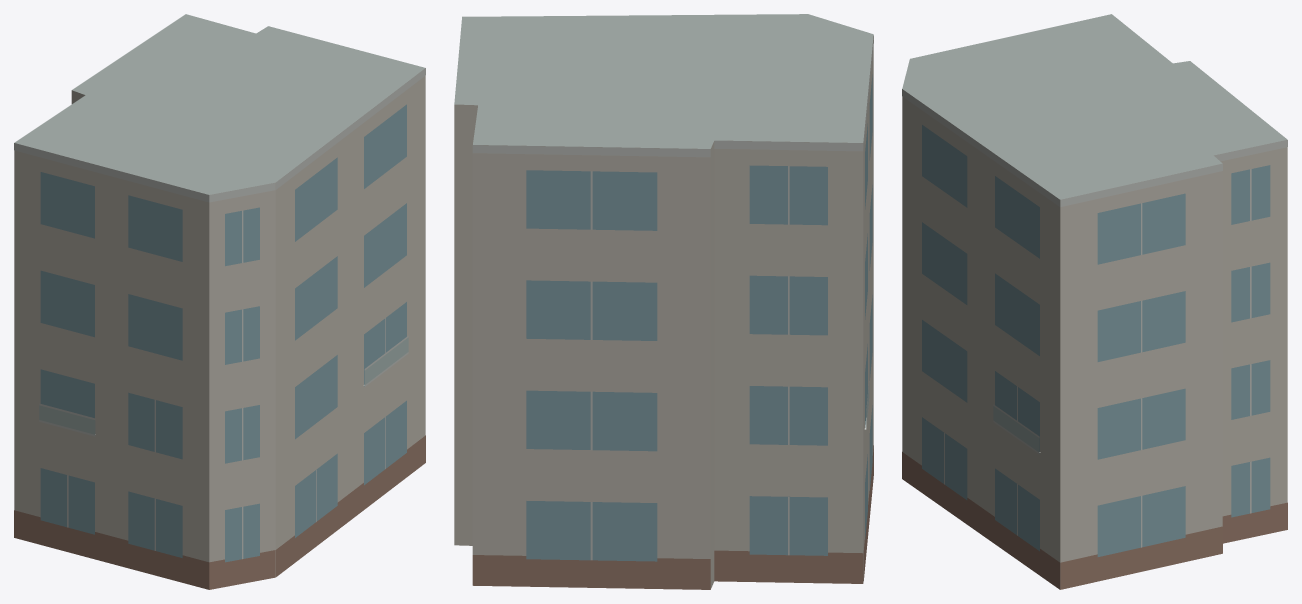
File: survey-upis-32931707.glb
3 views of the same model, side by side, from view 1: azimuth 30°, elevation 25°; view 2: azimuth 150°, elevation 25°; view 3: azimuth 270°, elevation 25° (orthographic). The views are drawn at different scales.
Parts seen in each view (by area): view 1: survey-upis-32931707.tmp; view 2: survey-upis-32931707.tmp; view 3: survey-upis-32931707.tmp.
Part boxes in pixels (bbox=[...]): survey-upis-32931707.tmp: bbox=[14, 14, 425, 589]; survey-upis-32931707.tmp: bbox=[454, 14, 873, 589]; survey-upis-32931707.tmp: bbox=[902, 14, 1287, 589].
Size of the model in its own units: 13.09 by 12.8 by 11.48.
